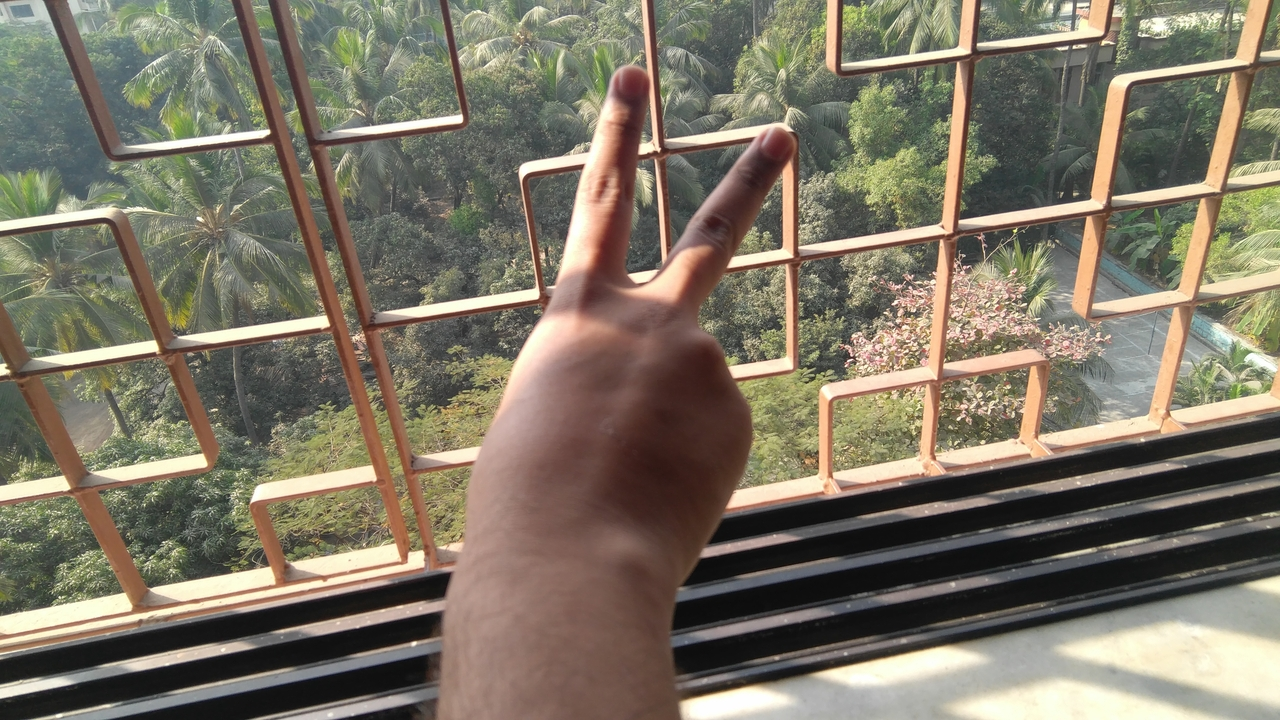fingertip: (742, 114, 798, 170), (604, 58, 650, 110)
